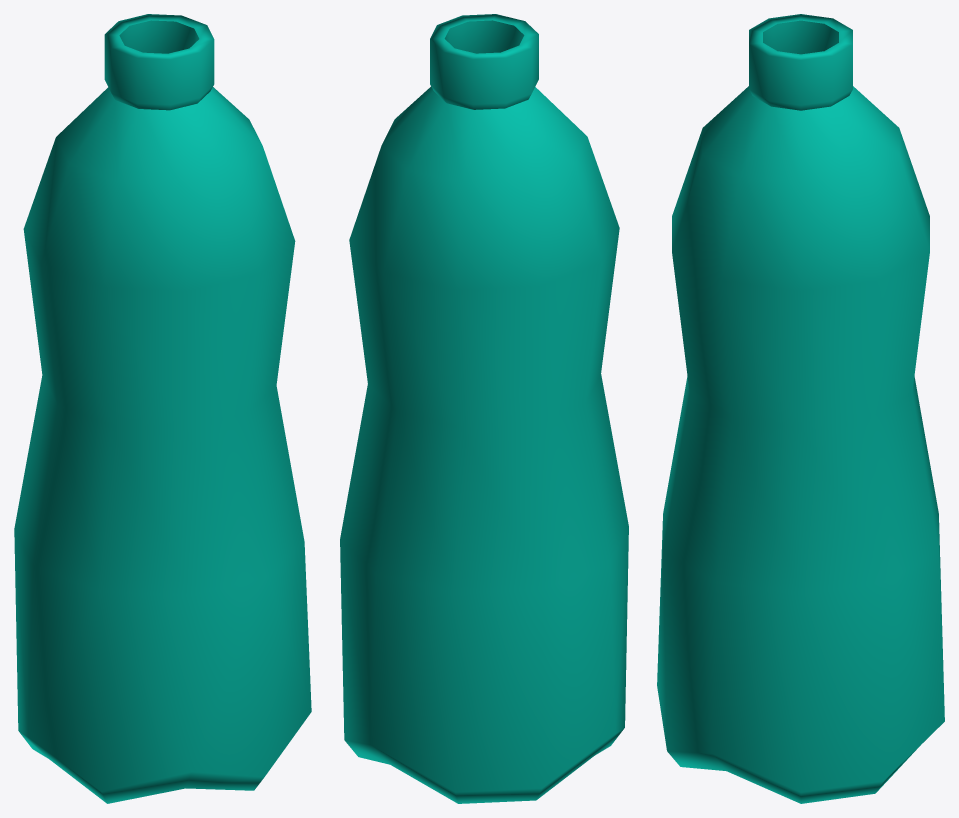
The model's file is li_bottlePlastic03.fbx.
3 renders of one model, left to right at view 1: azimuth 30°, elevation 25°; view 2: azimuth 150°, elevation 25°; view 3: azimuth 270°, elevation 25°, orthographic.
Visible parts, largest first — view 1: li_bottlePlastic03; view 2: li_bottlePlastic03; view 3: li_bottlePlastic03.
Boxes of the visible parts, <box> form: li_bottlePlastic03: <box>14,14,311,803</box>; li_bottlePlastic03: <box>340,14,628,803</box>; li_bottlePlastic03: <box>657,14,944,803</box>.
Bounding box in the file's own units: 6.06 × 16.15 × 5.91.
